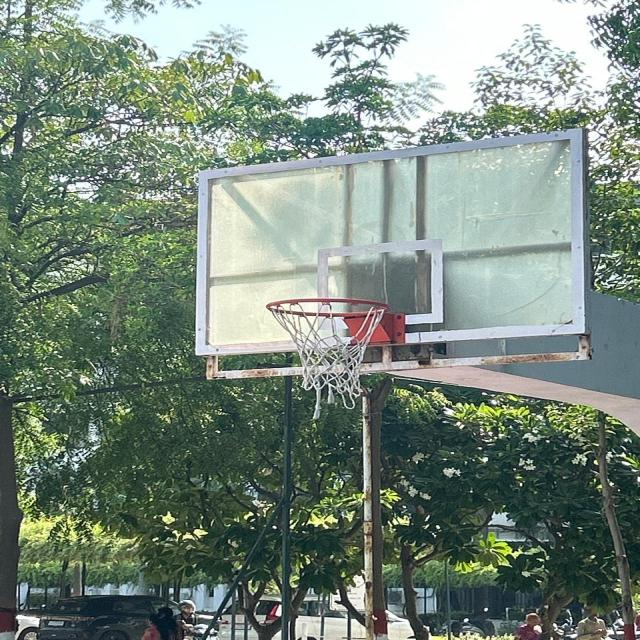hoop: (257, 283, 426, 423)
